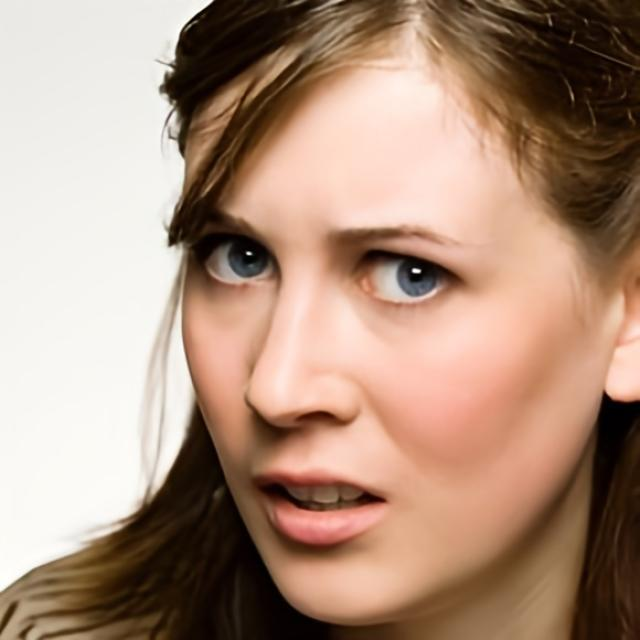disgust: (165, 1, 603, 628)
